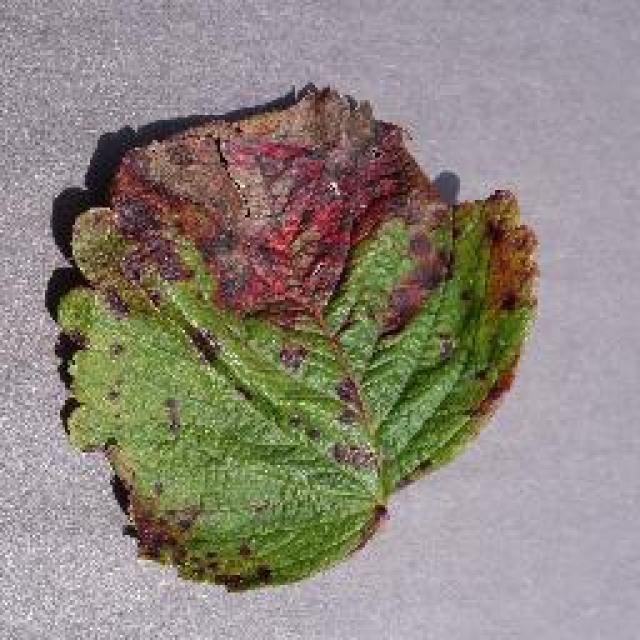Strawberry leaf scorch: (71, 92, 512, 435)
